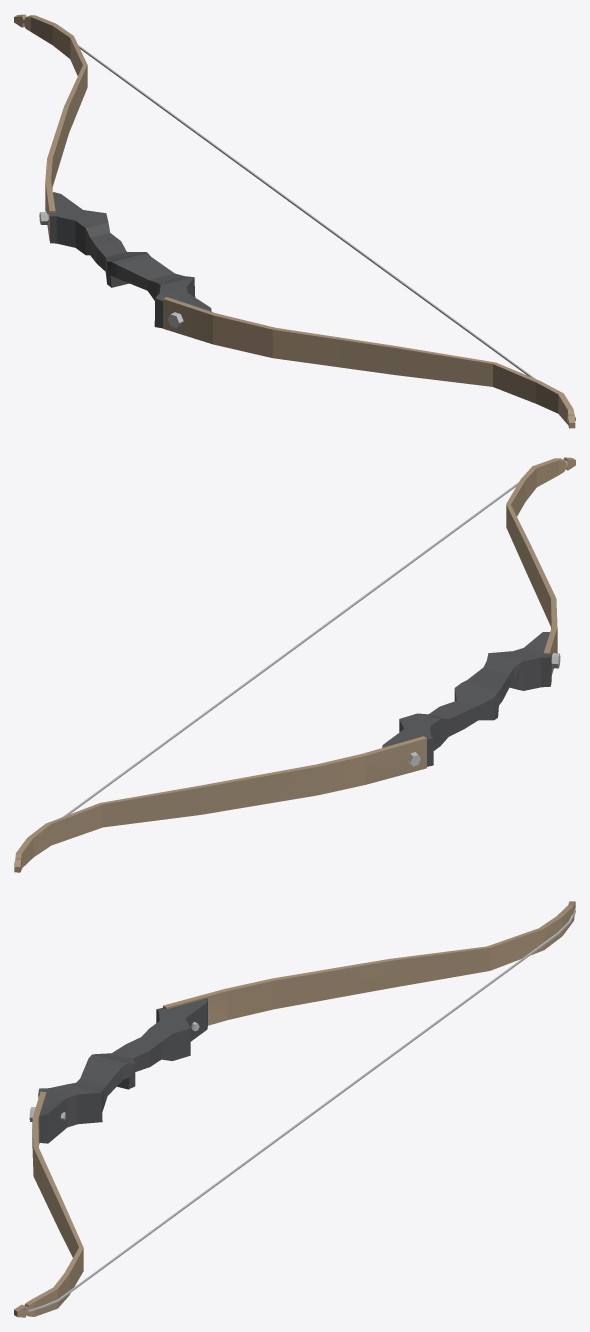
File: Bow.glb
3 views of the same model, one above another, from view 1: azimuth 30°, elevation 25°; view 2: azimuth 150°, elevation 25°; view 3: azimuth 330°, elevation 25° (orthographic).
Visible parts, largest first — view 1: Bow; view 2: Bow; view 3: Bow.
Part boxes in pixels (<box>): Bow: <box>14,14,575,428</box>; Bow: <box>14,457,575,872</box>; Bow: <box>14,901,575,1317</box>.
Bounding box in the file's own units: 0.5681 × 0.0763 × 2.53.
Materials: 1 (1 with a texture image).
